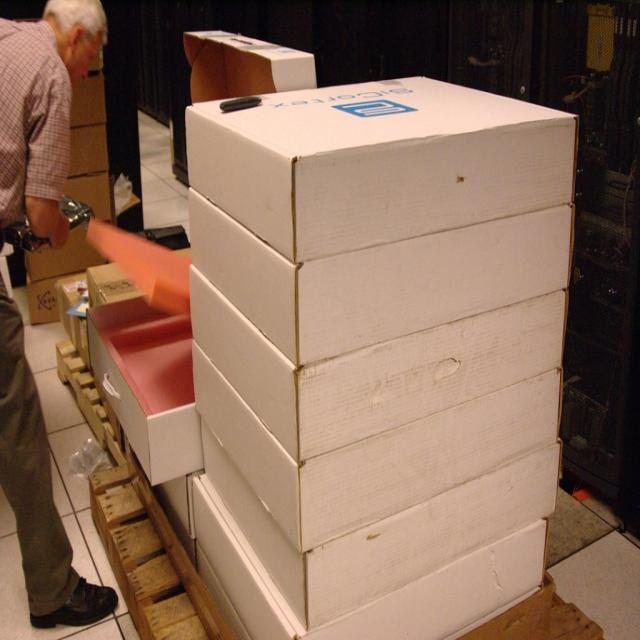Box: (85, 21, 330, 493), (184, 75, 582, 262), (187, 274, 576, 461), (195, 365, 570, 554), (184, 198, 586, 368), (184, 496, 556, 640)
